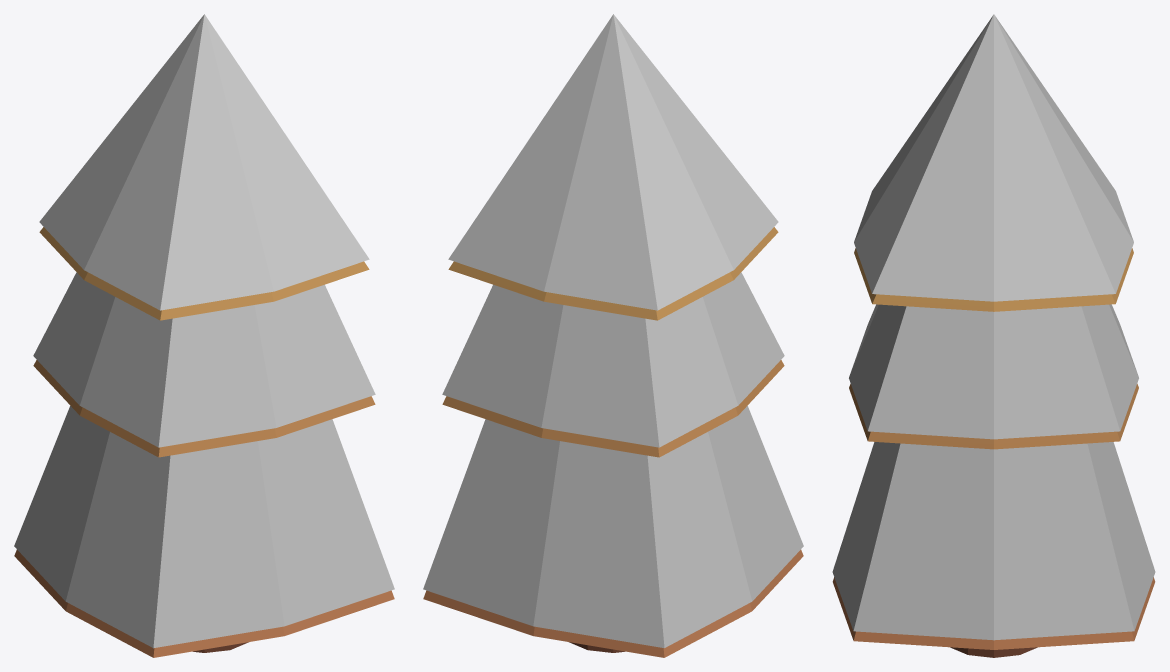
Rendered from Tree_23_winter_gradient_yellow_vc.fbx.
3 renders of one model, left to right at view 1: azimuth 30°, elevation 25°; view 2: azimuth 150°, elevation 25°; view 3: azimuth 270°, elevation 25°, orthographic.
Parts seen in each view (by area): view 1: Tree_23_winter_gradient_yellow_vc; view 2: Tree_23_winter_gradient_yellow_vc; view 3: Tree_23_winter_gradient_yellow_vc.
Part boxes in pixels (bbox=[...]): Tree_23_winter_gradient_yellow_vc: bbox=[14, 14, 394, 657]; Tree_23_winter_gradient_yellow_vc: bbox=[423, 14, 803, 657]; Tree_23_winter_gradient_yellow_vc: bbox=[832, 14, 1155, 657].
Bounding box in the file's own units: 90.18 × 192 × 90.18.
